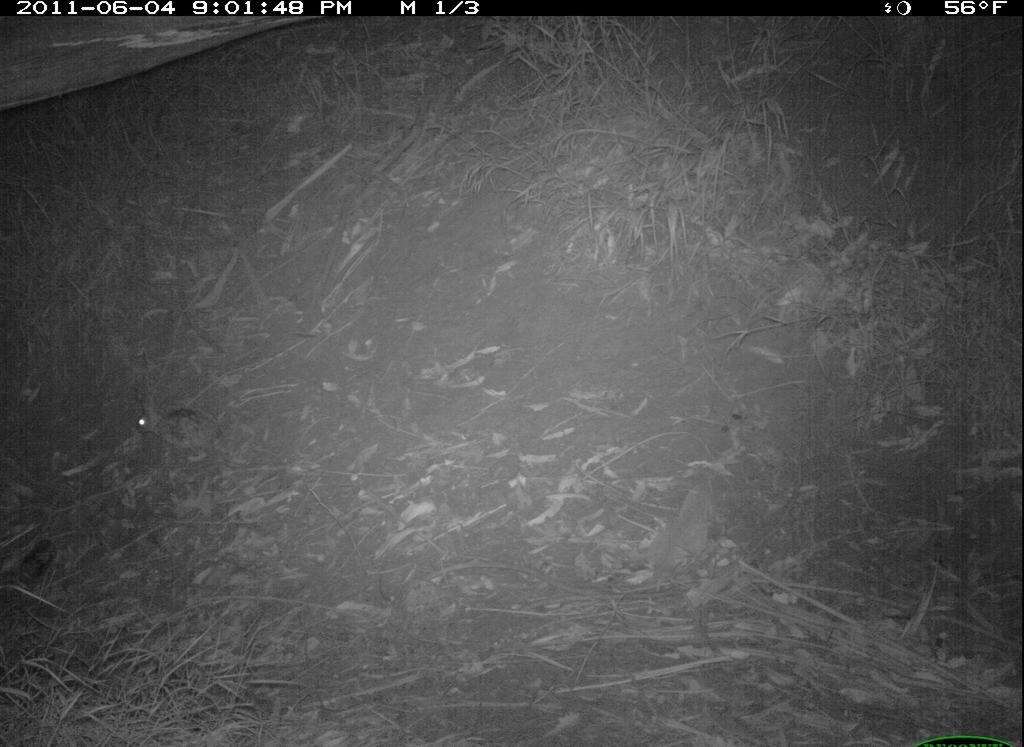rabbit: (126, 396, 226, 464)
